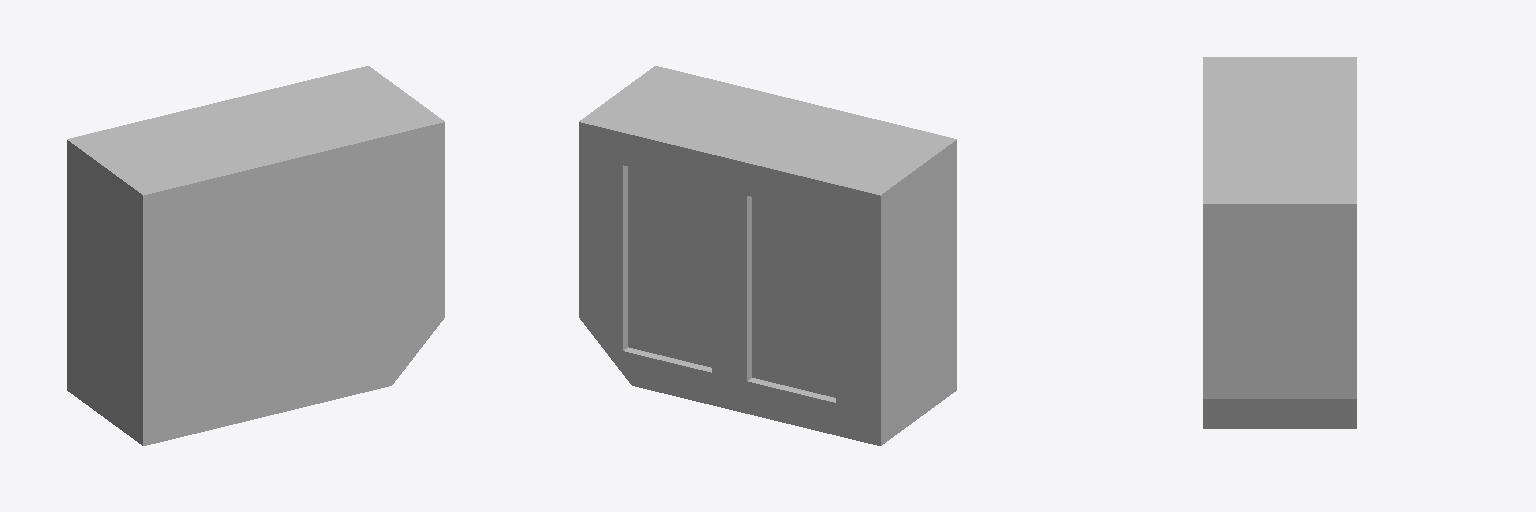
File: IRIDIAepuck3D_Nov2019_RightGroundSensor.obj
3 renders of one model, left to right at view 1: azimuth 30°, elevation 25°; view 2: azimuth 150°, elevation 25°; view 3: azimuth 270°, elevation 25°, orthographic.
Parts seen in each view (by area): view 1: brep_1; view 2: brep_1; view 3: brep_1.
Boxes of the visible parts, x1,y1,x2,y2 form: brep_1: [67, 66, 444, 445]; brep_1: [579, 66, 956, 445]; brep_1: [1203, 57, 1356, 428].
Size of the model in its own units: 0.0034 by 0.0027 by 0.0015.